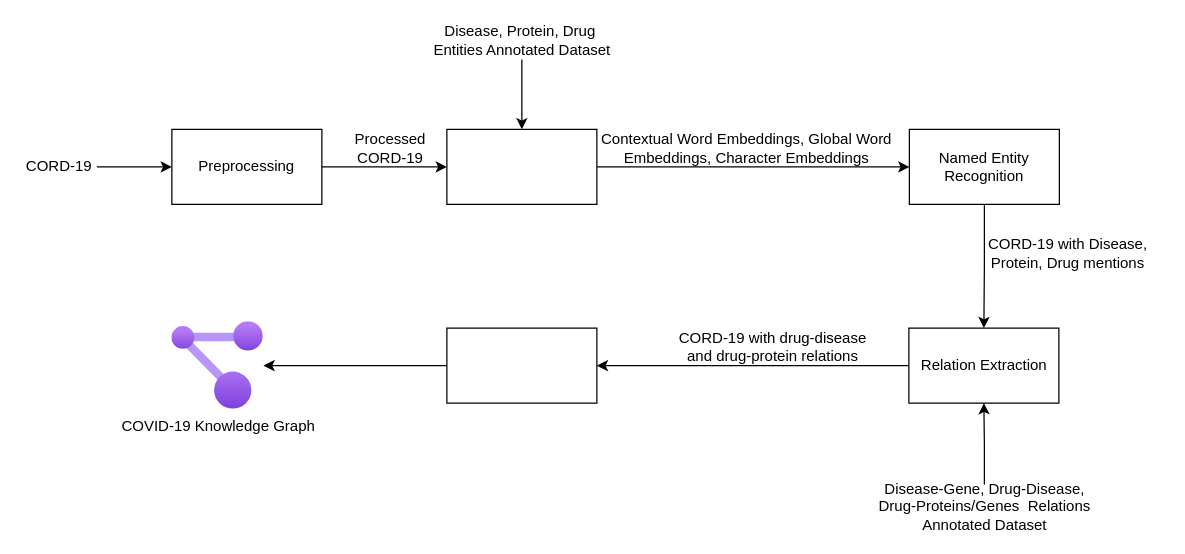
Some shapes in this 1185 by 554 pixel diagram are drawn without their labels. Here are the shapes that lost their labels. From the top down, the box of each, then its label:
(446, 128, 597, 204): Feature Extraction
(446, 327, 597, 403): Graph Construction
